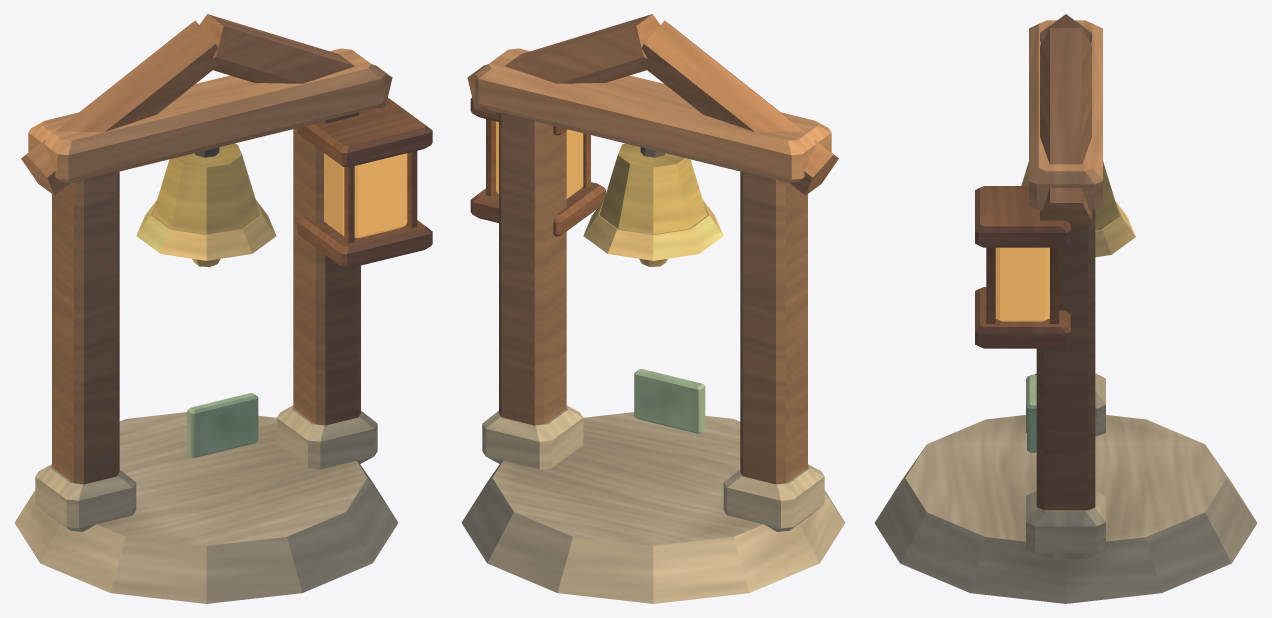
File: waybell_lit.glb
3 views of the same model, side by side, from view 1: azimuth 30°, elevation 25°; view 2: azimuth 150°, elevation 25°; view 3: azimuth 270°, elevation 25° (orthographic).
Parts seen in each view (by area): view 1: Reparierte Wegglocke; view 2: Reparierte Wegglocke; view 3: Reparierte Wegglocke.
Boxes of the visible parts, x1,y1,x2,y2 form: Reparierte Wegglocke: (14, 14, 432, 603); Reparierte Wegglocke: (461, 14, 845, 603); Reparierte Wegglocke: (874, 14, 1257, 603).
Bounding box in the file's own units: 1.35 × 1.8 × 1.24.
Materials: 3 (2 with a texture image).
